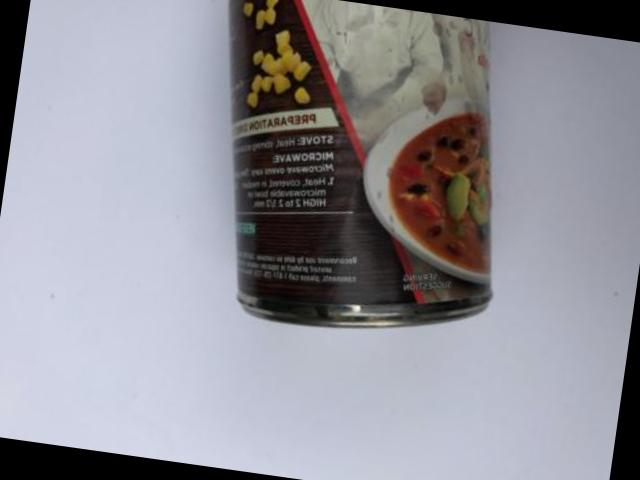metal: (227, 0, 489, 329)
